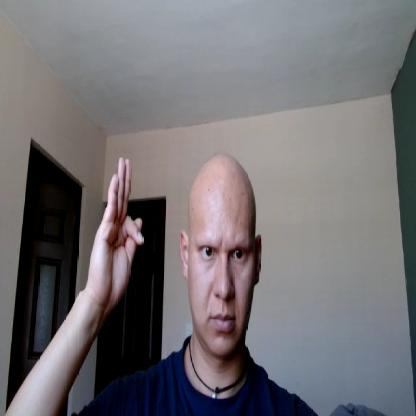F: (90, 156, 146, 303)
